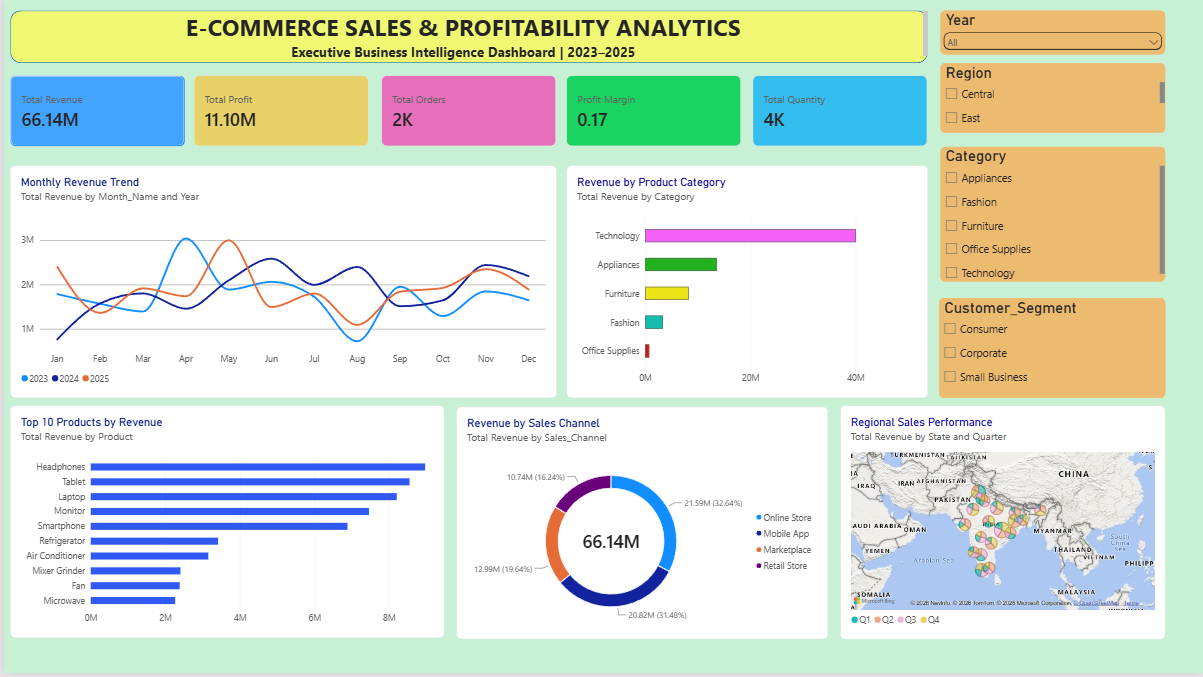

The page's visual inventory and layout, read from the dashboard file:
{"tool":"powerbi","page":{"name":"Page 1","canvas":[1920,1080],"ordinal":0},"visuals":[{"type":"cardVisual","fields":{"Data":["PowerBI_Advanced_Ecommerce_Sales_Dataset.Total Revenue"]},"box":[10.3,123.5,279.9,113.2],"z":0},{"type":"cardVisual","fields":{"Data":["PowerBI_Advanced_Ecommerce_Sales_Dataset.Total Profit"]},"box":[304.6,123.5,279.9,113.2],"z":1000},{"type":"cardVisual","fields":{"Data":["PowerBI_Advanced_Ecommerce_Sales_Dataset.Total Orders"]},"box":[603.1,123.5,279.9,113.2],"z":2000},{"type":"cardVisual","fields":{"Data":["PowerBI_Advanced_Ecommerce_Sales_Dataset.Profit Margin"]},"box":[899.5,123.5,279.9,113.2],"z":3000},{"type":"cardVisual","fields":{"Data":["PowerBI_Advanced_Ecommerce_Sales_Dataset.Total Quantity"]},"box":[1197.9,123.5,279.9,113.2],"z":4000},{"type":"lineChart","title":"Monthly Revenue Trend","fields":{"Category":["PowerBI_Advanced_Ecommerce_Sales_Dataset.Month_Name"],"Series":["PowerBI_Advanced_Ecommerce_Sales_Dataset.Year"],"Y":["PowerBI_Advanced_Ecommerce_Sales_Dataset.Total Revenue"]},"box":[10,268,874,372],"z":5000},{"type":"clusteredBarChart","title":"Revenue by Product Category","fields":{"Category":["PowerBI_Advanced_Ecommerce_Sales_Dataset.Category"],"Y":["PowerBI_Advanced_Ecommerce_Sales_Dataset.Total Revenue"]},"box":[900,268,578,372],"z":6000},{"type":"map","title":"Regional Sales Performance","fields":{"Category":["PowerBI_Advanced_Ecommerce_Sales_Dataset.State"],"Series":["PowerBI_Advanced_Ecommerce_Sales_Dataset.Quarter"],"Size":["PowerBI_Advanced_Ecommerce_Sales_Dataset.Total Revenue"]},"box":[1338,652,520,374],"z":7000},{"type":"clusteredBarChart","title":"Top 10 Products by Revenue","fields":{"Category":["PowerBI_Advanced_Ecommerce_Sales_Dataset.Product"],"Y":["PowerBI_Advanced_Ecommerce_Sales_Dataset.Total Revenue"]},"box":[10,652,694,372],"z":7001},{"type":"donutChart","title":"Revenue by Sales Channel","fields":{"Category":["PowerBI_Advanced_Ecommerce_Sales_Dataset.Sales_Channel"],"Y":["PowerBI_Advanced_Ecommerce_Sales_Dataset.Total Revenue"]},"box":[724,654,594,372],"z":7002},{"type":"slicer","fields":{"Values":["PowerBI_Advanced_Ecommerce_Sales_Dataset.Year"]},"box":[1498,20,360,70],"z":7003},{"type":"slicer","fields":{"Values":["PowerBI_Advanced_Ecommerce_Sales_Dataset.Region"]},"box":[1498,104,360,112],"z":7004},{"type":"slicer","fields":{"Values":["PowerBI_Advanced_Ecommerce_Sales_Dataset.Category"]},"box":[1498,238,360,216],"z":7005},{"type":"slicer","fields":{"Values":["PowerBI_Advanced_Ecommerce_Sales_Dataset.Customer_Segment"]},"box":[1496,480,362,160],"z":7006},{"type":"textbox","box":[10,20,1428,122],"z":7007},{"type":"shape","box":[10,20,1468,84],"z":7008},{"type":"textbox","box":[0,20,1478,84],"z":7009}]}

Visuals, with their boxes in screenshot pixels (x1, y1, x2, y2), scaled from the page's 1920x1080 canvas onto the 1203x677 screenshot:
cardVisual - PowerBI_Advanced_Ecommerce_Sales_Dataset.Total Revenue: {"x1": 6, "y1": 77, "x2": 182, "y2": 148}
cardVisual - PowerBI_Advanced_Ecommerce_Sales_Dataset.Total Profit: {"x1": 191, "y1": 77, "x2": 366, "y2": 148}
cardVisual - PowerBI_Advanced_Ecommerce_Sales_Dataset.Total Orders: {"x1": 378, "y1": 77, "x2": 553, "y2": 148}
cardVisual - PowerBI_Advanced_Ecommerce_Sales_Dataset.Profit Margin: {"x1": 564, "y1": 77, "x2": 739, "y2": 148}
cardVisual - PowerBI_Advanced_Ecommerce_Sales_Dataset.Total Quantity: {"x1": 751, "y1": 77, "x2": 926, "y2": 148}
"Monthly Revenue Trend" lineChart: {"x1": 6, "y1": 168, "x2": 554, "y2": 401}
"Revenue by Product Category" clusteredBarChart: {"x1": 564, "y1": 168, "x2": 926, "y2": 401}
"Regional Sales Performance" map: {"x1": 838, "y1": 409, "x2": 1164, "y2": 643}
"Top 10 Products by Revenue" clusteredBarChart: {"x1": 6, "y1": 409, "x2": 441, "y2": 642}
"Revenue by Sales Channel" donutChart: {"x1": 454, "y1": 410, "x2": 826, "y2": 643}
slicer - PowerBI_Advanced_Ecommerce_Sales_Dataset.Year: {"x1": 939, "y1": 13, "x2": 1164, "y2": 56}
slicer - PowerBI_Advanced_Ecommerce_Sales_Dataset.Region: {"x1": 939, "y1": 65, "x2": 1164, "y2": 135}
slicer - PowerBI_Advanced_Ecommerce_Sales_Dataset.Category: {"x1": 939, "y1": 149, "x2": 1164, "y2": 285}
slicer - PowerBI_Advanced_Ecommerce_Sales_Dataset.Customer_Segment: {"x1": 937, "y1": 301, "x2": 1164, "y2": 401}
textbox: {"x1": 6, "y1": 13, "x2": 901, "y2": 89}
shape: {"x1": 6, "y1": 13, "x2": 926, "y2": 65}
textbox: {"x1": 0, "y1": 13, "x2": 926, "y2": 65}
